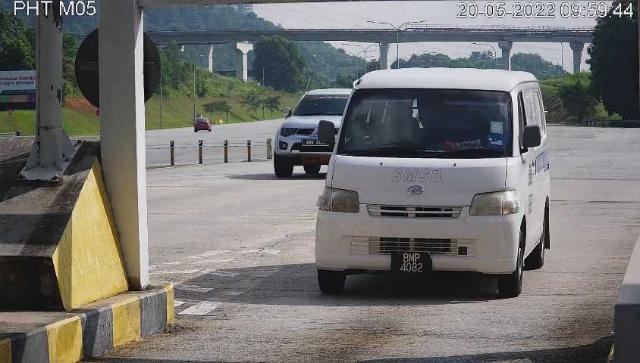License_Plate: (389, 251, 435, 280)
van: (317, 68, 552, 298)
